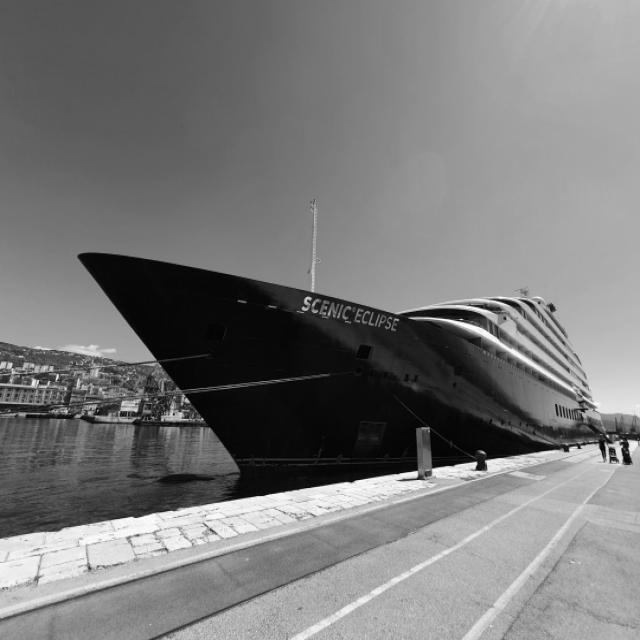cruises: (75, 212, 611, 468)
